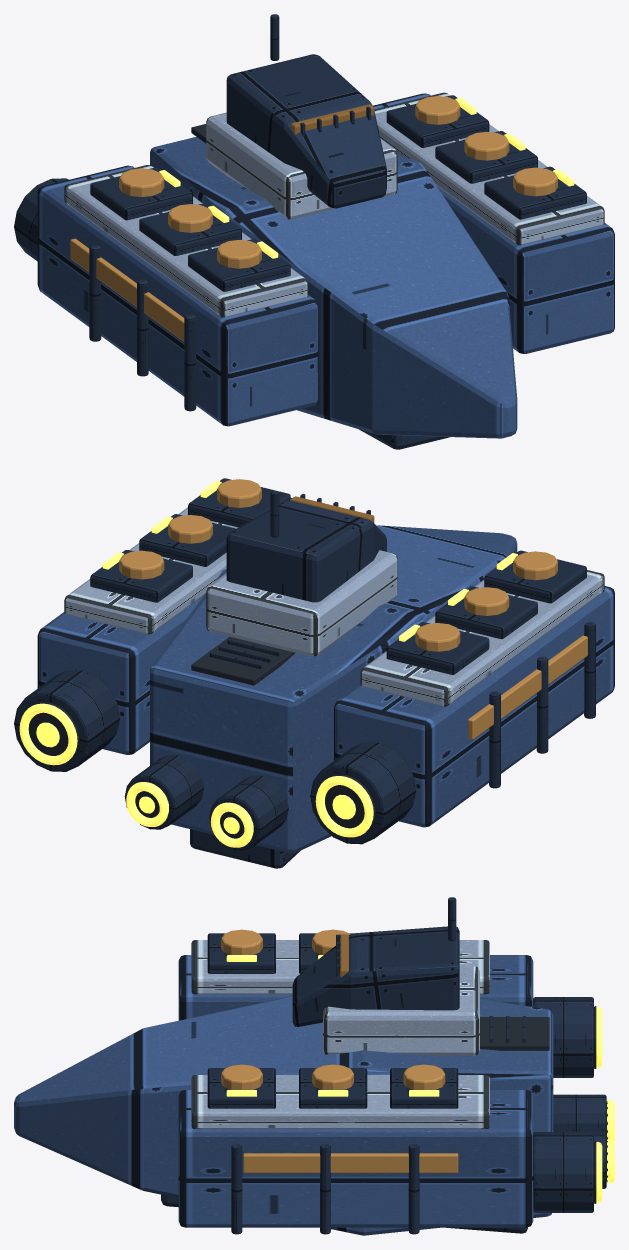
The model's file is bastion.glb.
3 renders of one model, top to bottom at view 1: azimuth 30°, elevation 25°; view 2: azimuth 150°, elevation 25°; view 3: azimuth 270°, elevation 25°, orthographic. The views are drawn at different scales.
Parts seen in each view (by area): view 1: Surface_Titanium_Panels, Surface_Brushed_Steel, Surface_Ceramic_Armor, Surface_bastion_Faction_Enamel, Surface_bastion_Reactor, Surface_bastion_Glazed_Optics; view 2: Surface_Titanium_Panels, Surface_Brushed_Steel, Surface_Ceramic_Armor, Surface_bastion_Faction_Enamel, Surface_bastion_Reactor, Surface_Recess_Carbon; view 3: Surface_Titanium_Panels, Surface_Brushed_Steel, Surface_Ceramic_Armor, Surface_bastion_Faction_Enamel, Surface_Recess_Carbon, Surface_bastion_Reactor.
Boxes of the visible parts, left/top/right/bottom form: Surface_Titanium_Panels: left=37, top=93, right=614, bottom=438; Surface_Brushed_Steel: left=14, top=14, right=586, bottom=449; Surface_Ceramic_Armor: left=64, top=92, right=604, bottom=317; Surface_bastion_Faction_Enamel: left=70, top=96, right=557, bottom=341; Surface_bastion_Reactor: left=159, top=97, right=574, bottom=258; Surface_bastion_Glazed_Optics: left=291, top=104, right=374, bottom=134; Surface_Titanium_Panels: left=37, top=525, right=614, bottom=853; Surface_Brushed_Steel: left=14, top=478, right=595, bottom=868; Surface_Ceramic_Armor: left=64, top=497, right=604, bottom=706; Surface_bastion_Faction_Enamel: left=119, top=479, right=587, bottom=739; Surface_bastion_Reactor: left=19, top=480, right=517, bottom=847; Surface_Recess_Carbon: left=27, top=637, right=375, bottom=838; Surface_Titanium_Panels: left=14, top=955, right=553, bottom=1235; Surface_Brushed_Steel: left=161, top=897, right=606, bottom=1234; Surface_Ceramic_Armor: left=191, top=940, right=489, bottom=1128; Surface_bastion_Faction_Enamel: left=221, top=929, right=458, bottom=1173; Surface_Recess_Carbon: left=480, top=1006, right=607, bottom=1203; Surface_bastion_Reactor: left=226, top=955, right=614, bottom=1203.
Bounding box in the file's own units: 1.74 × 1.38 × 2.37.
7 materials, 3 textured.
